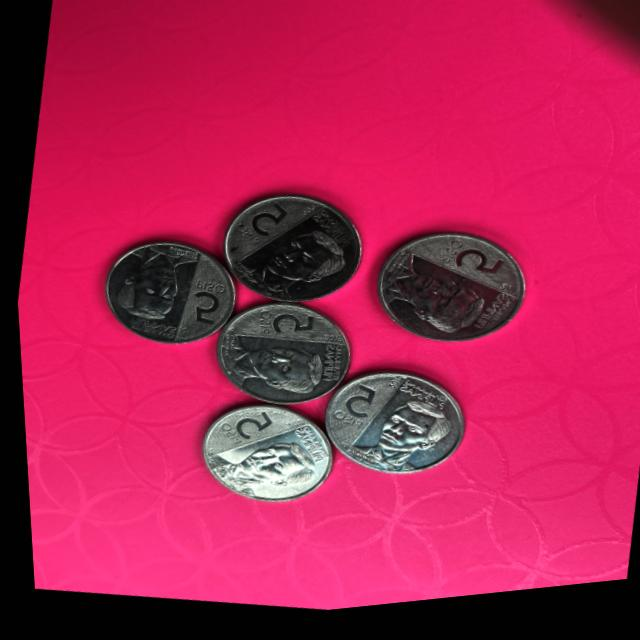5_New_Front: (221, 191, 309, 271), (199, 399, 279, 464), (162, 270, 236, 340), (428, 237, 513, 296), (312, 381, 381, 442), (250, 304, 315, 353)
